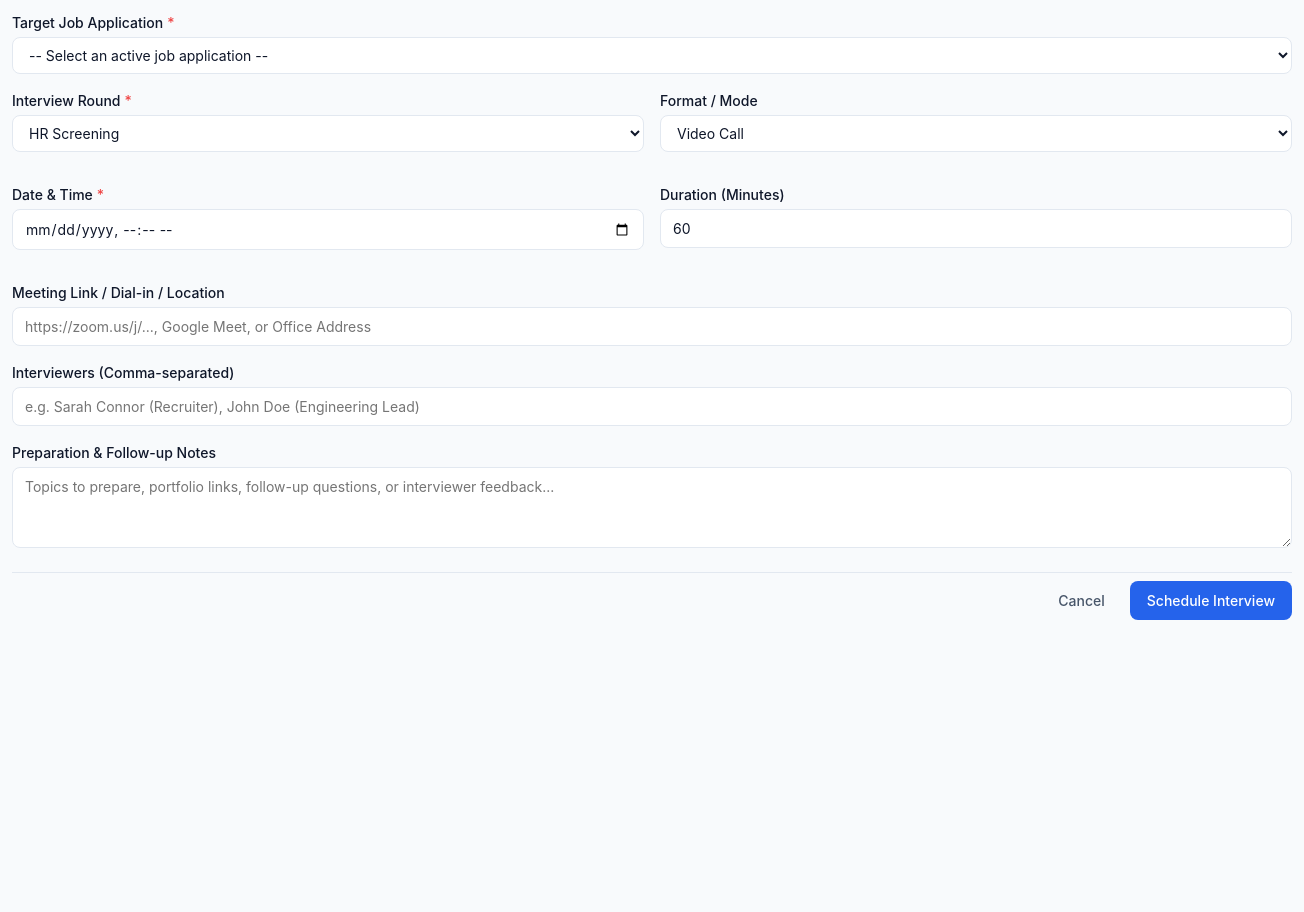
Scenario: InterviewForm Component (Phase 6.5E) › validates required fields on client-side before submission
Click submit without filling required fields
Click the button "Schedule Interview". click: click(1211, 600)
box: [1130,581,1292,620]
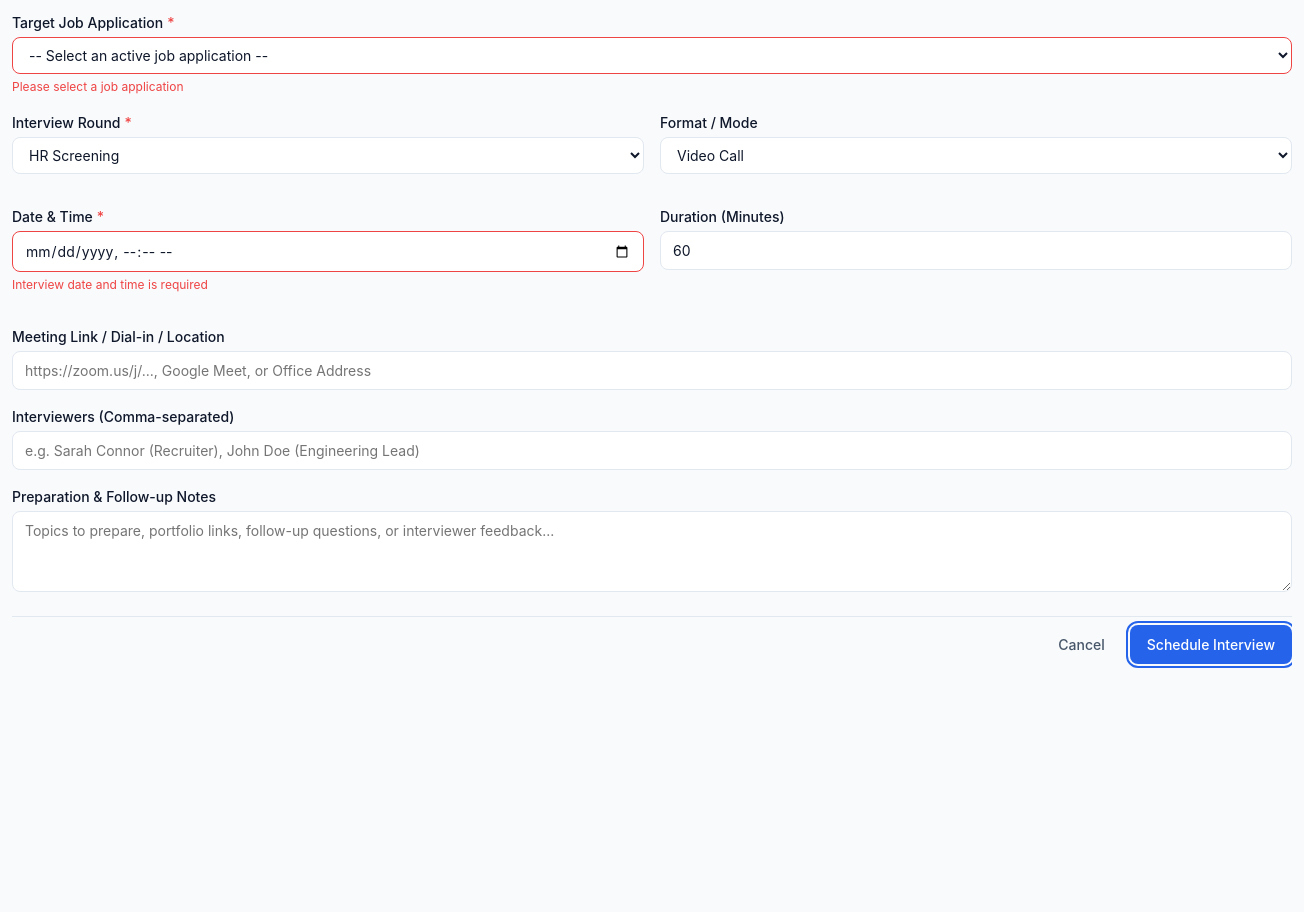
Expected: the text "Please select a job application" is shown, [12,79,184,94]
Expected: the text "Interview date and time is required" is shown, [12,277,208,292]
